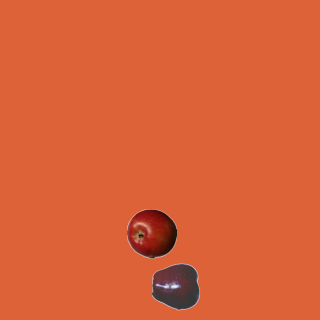Apple Braeburn: (126, 208, 176, 258)
Apple Red Delicious: (151, 261, 201, 311)
